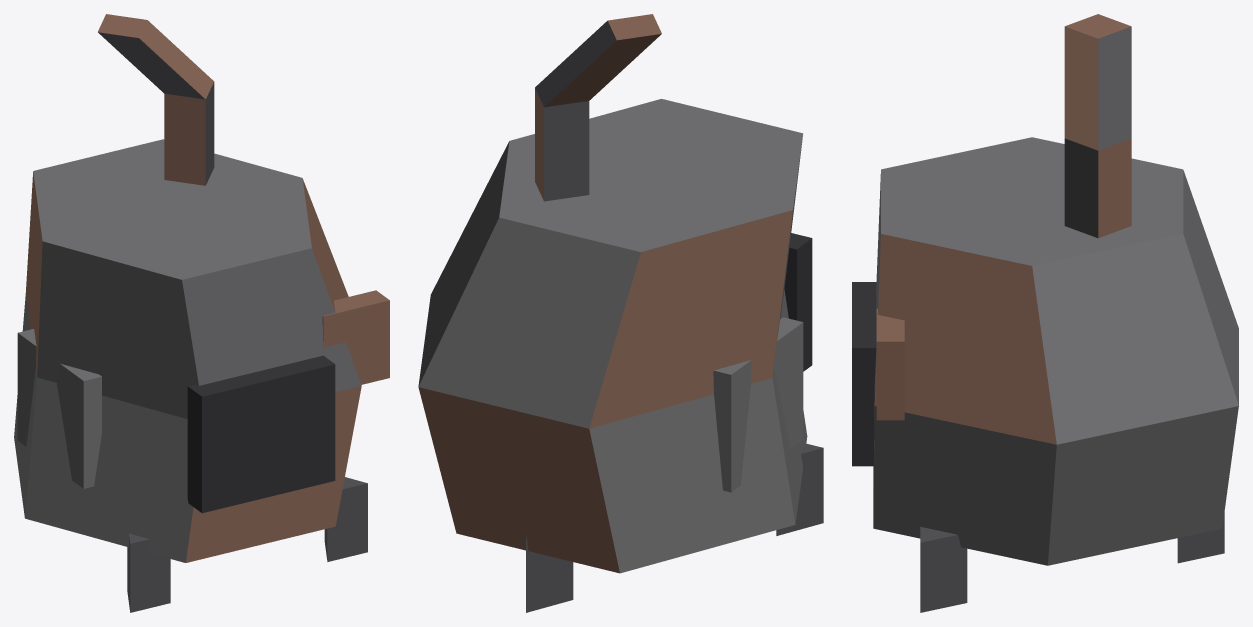
Rendered from tin_stove.glb.
3 renders of one model, left to right at view 1: azimuth 30°, elevation 25°; view 2: azimuth 150°, elevation 25°; view 3: azimuth 270°, elevation 25°, orthographic. The views are drawn at different scales.
Visible parts, largest first — view 1: tin_stove; view 2: tin_stove; view 3: tin_stove.
Boxes of the visible parts, left/top/right/bottom form: tin_stove: left=14, top=14, right=389, bottom=612; tin_stove: left=418, top=14, right=823, bottom=612; tin_stove: left=852, top=14, right=1238, bottom=612.
Size of the model in its own units: 0.4 by 0.58 by 0.4.
